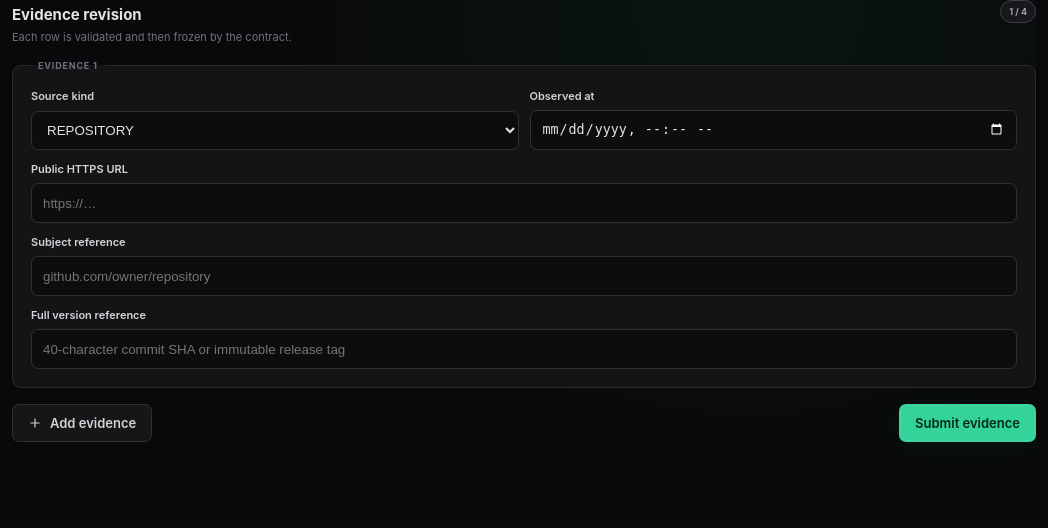
Test: EvidenceEditor › validates all five fields with shared evidence rules before submission
This screenshot has width=1048, height=528.
Click the button "Submit evidence": (968, 423) top-left (899, 404), bottom-right (1036, 442)
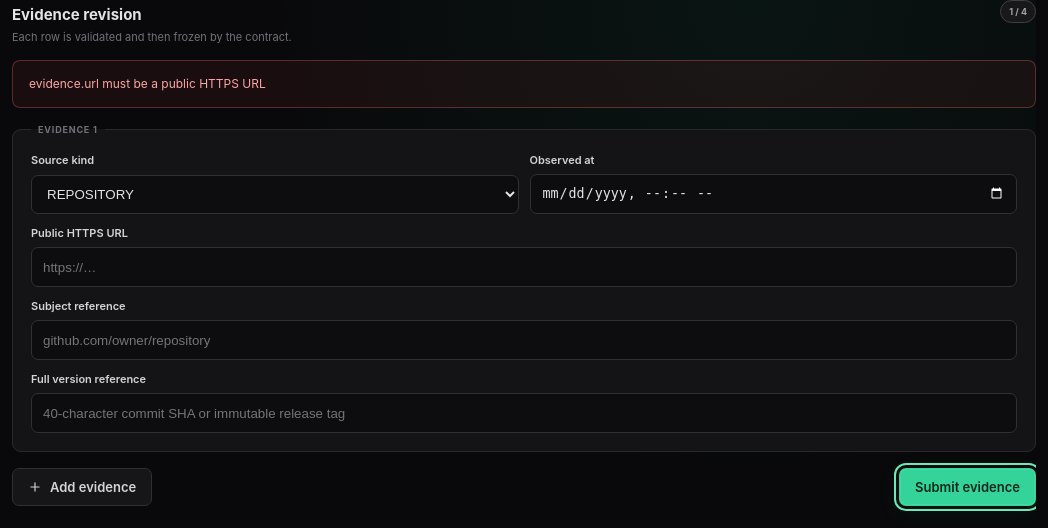
Expected: the message reads "evidence.url must be a public HTTPS URL", top-left (29, 76), bottom-right (266, 91)
